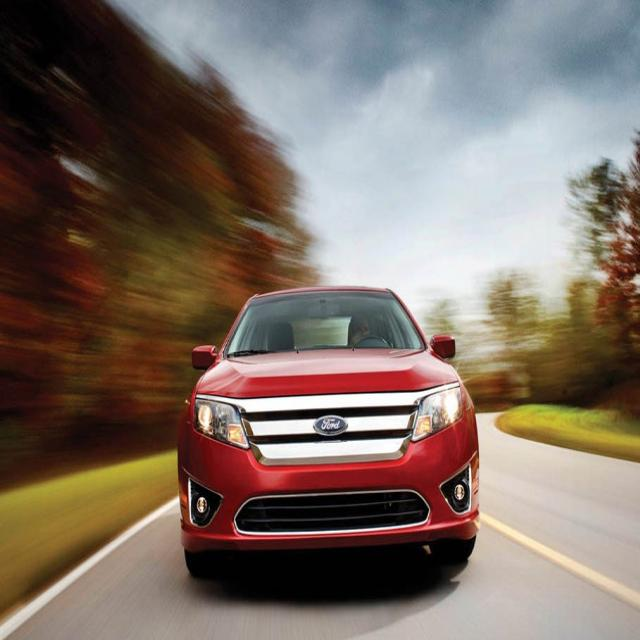front_bumper: (176, 421, 481, 555)
front_glass: (224, 289, 426, 357)
front_left_side_light: (409, 385, 463, 444)
front_left_side_mirror: (429, 333, 457, 360)
front_right_side_light: (193, 395, 252, 452)
front_right_side_mirror: (190, 340, 220, 371)
